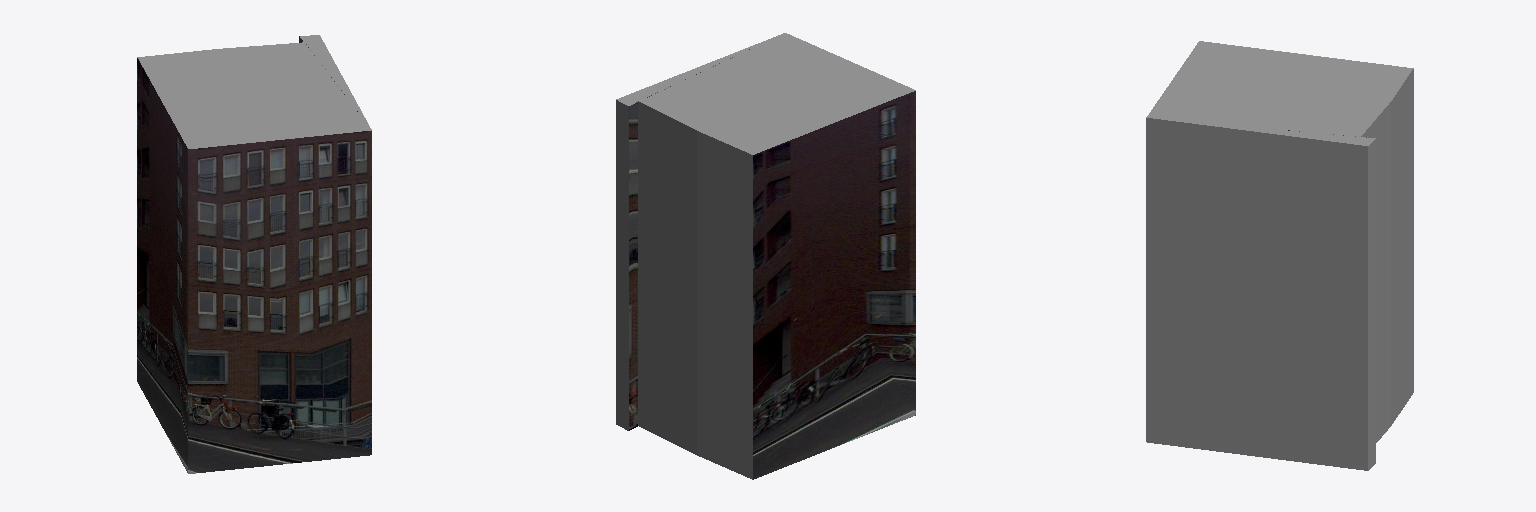
The picture shows the model from 3 angles: view 1: azimuth 30°, elevation 25°; view 2: azimuth 150°, elevation 25°; view 3: azimuth 270°, elevation 25°; orthographic projection.
Visible parts, largest first — view 1: pand; view 2: pand; view 3: pand.
Part boxes in pixels (x1,y1,x2,y2): pand: (137, 35, 371, 473); pand: (616, 33, 915, 479); pand: (1146, 41, 1413, 470).
Size of the model in its own units: 14.29 by 20.53 by 15.31.
Materials: 2 (1 with a texture image).